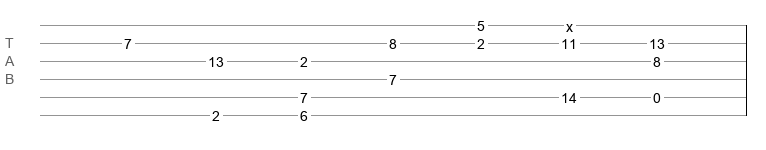0: (653, 90, 661, 100)
11: (561, 36, 577, 46)
13: (208, 54, 224, 64), (649, 36, 665, 46)
14: (561, 90, 577, 100)
2: (212, 108, 220, 118), (300, 54, 308, 64), (477, 36, 485, 46)
5: (477, 18, 485, 28)
6: (300, 108, 308, 118)
7: (124, 36, 132, 46), (300, 90, 308, 100), (389, 72, 397, 82)
8: (389, 36, 397, 46), (653, 54, 661, 64)
x: (566, 19, 573, 27)
